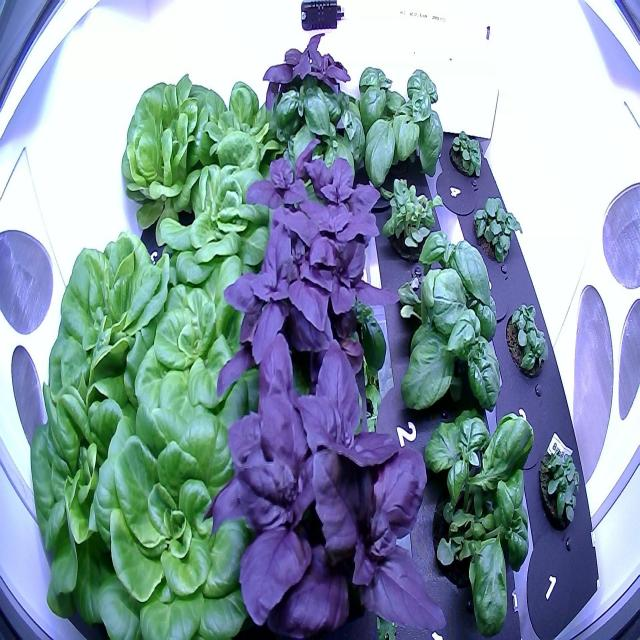Ready: (22, 364, 149, 640), (22, 218, 176, 418), (117, 51, 231, 233)
young: (92, 394, 258, 640), (117, 254, 260, 426), (157, 161, 279, 288), (196, 65, 291, 181)
